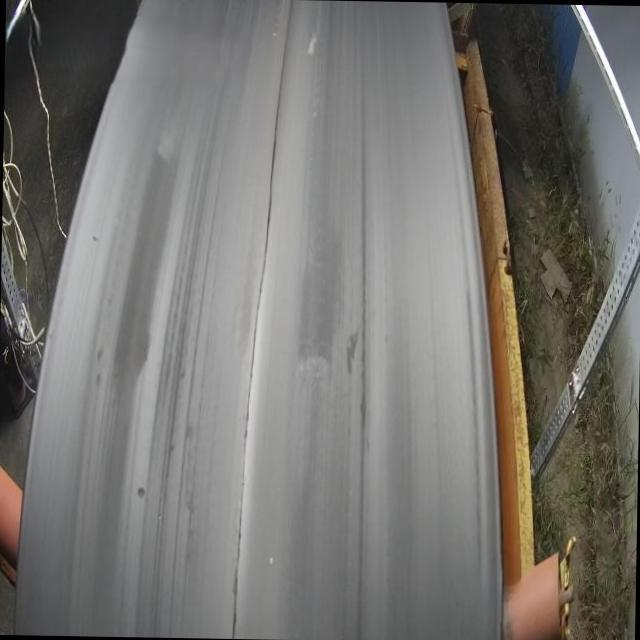Tear: (228, 0, 294, 640)
